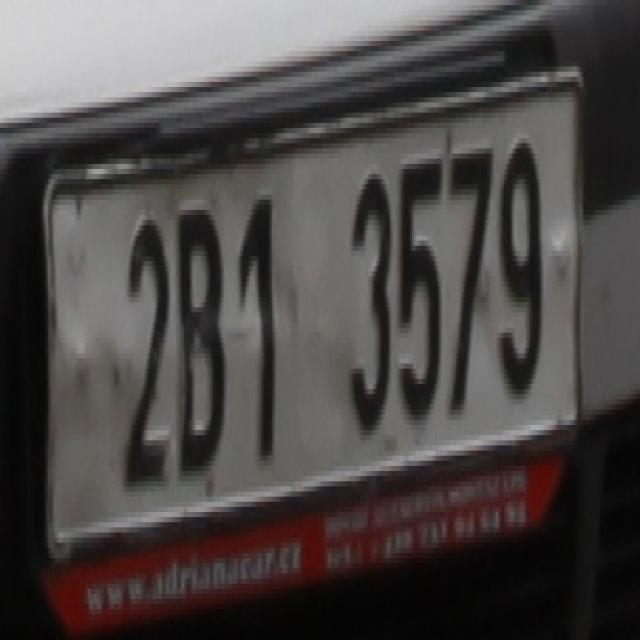1: (237, 184, 280, 466)
2: (124, 215, 170, 476)
3: (347, 169, 389, 425)
5: (396, 159, 446, 420)
7: (446, 148, 490, 430)
9: (498, 143, 542, 404)
B: (174, 199, 228, 472)
